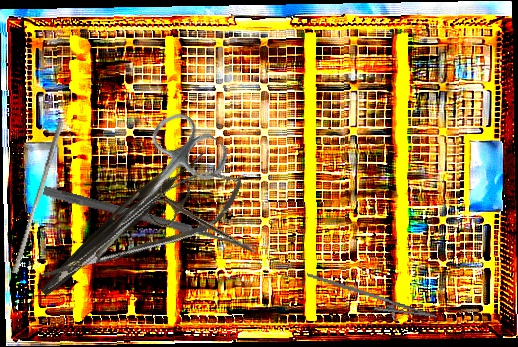Dressing Forceps: (37, 137, 206, 305)
Iris Scissors: (64, 103, 236, 289), (144, 173, 269, 273)
Micro Scissor: (30, 158, 254, 301)
Needle Holder: (301, 272, 441, 329)
Pusher: (11, 118, 64, 276)
Surgical Spoon: (42, 185, 256, 254)
